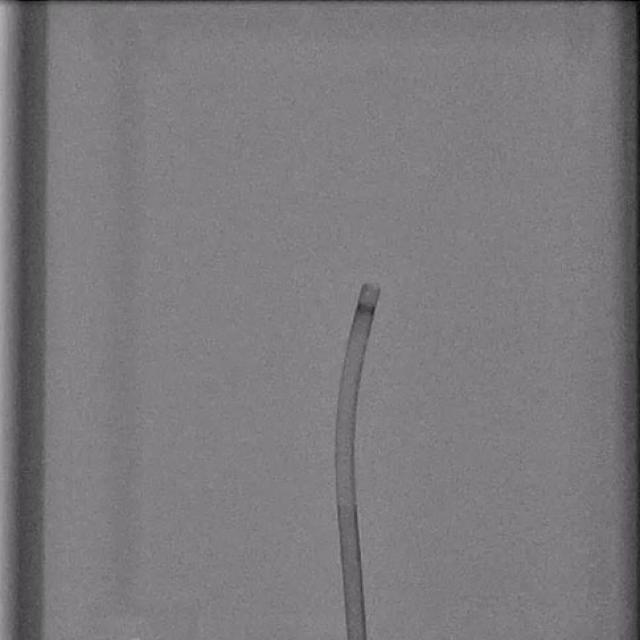bend: (336, 490, 357, 508)
entry: (348, 636, 367, 640)
marker: (354, 302, 377, 318)
tip: (363, 282, 382, 291)
